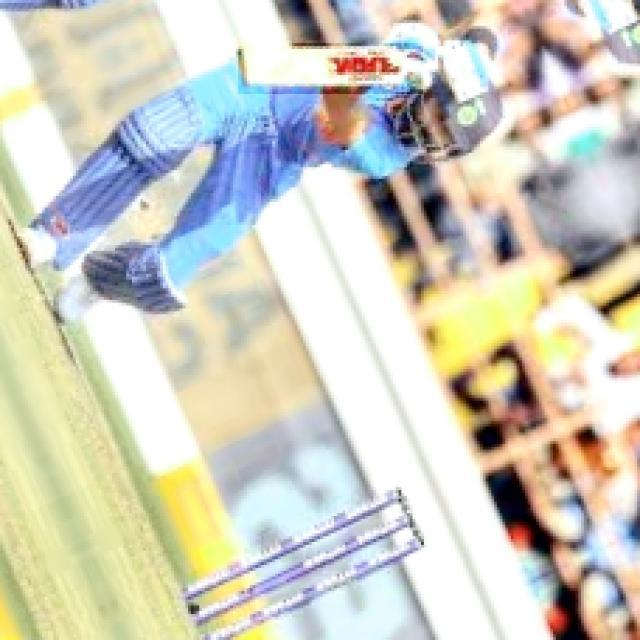bat: (233, 43, 413, 92)
toe: (230, 43, 249, 90)
